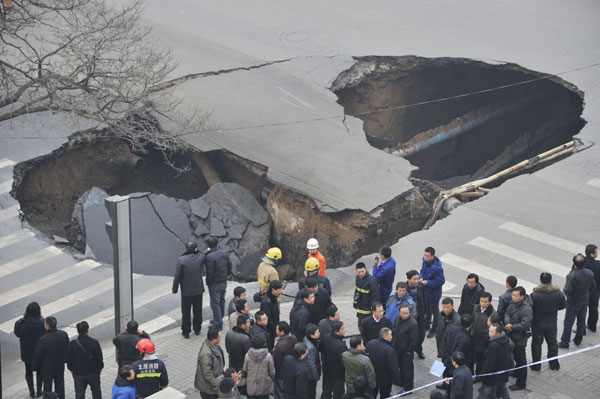Crosswalk: (2, 246, 106, 310)
Hole_in_the_road: (15, 54, 585, 236)
Person: (107, 315, 164, 399), (64, 318, 106, 399), (34, 312, 71, 399), (362, 322, 402, 396), (15, 300, 46, 381), (256, 282, 291, 353), (432, 299, 456, 362)
